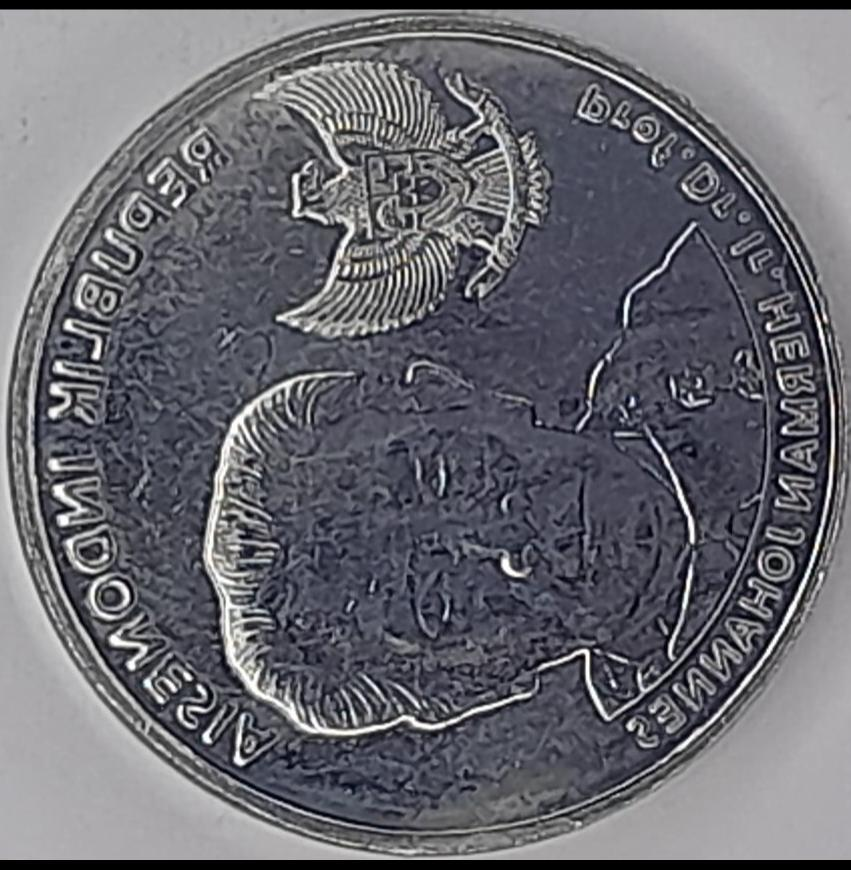coin_100_e2016: (0, 11, 850, 857)
